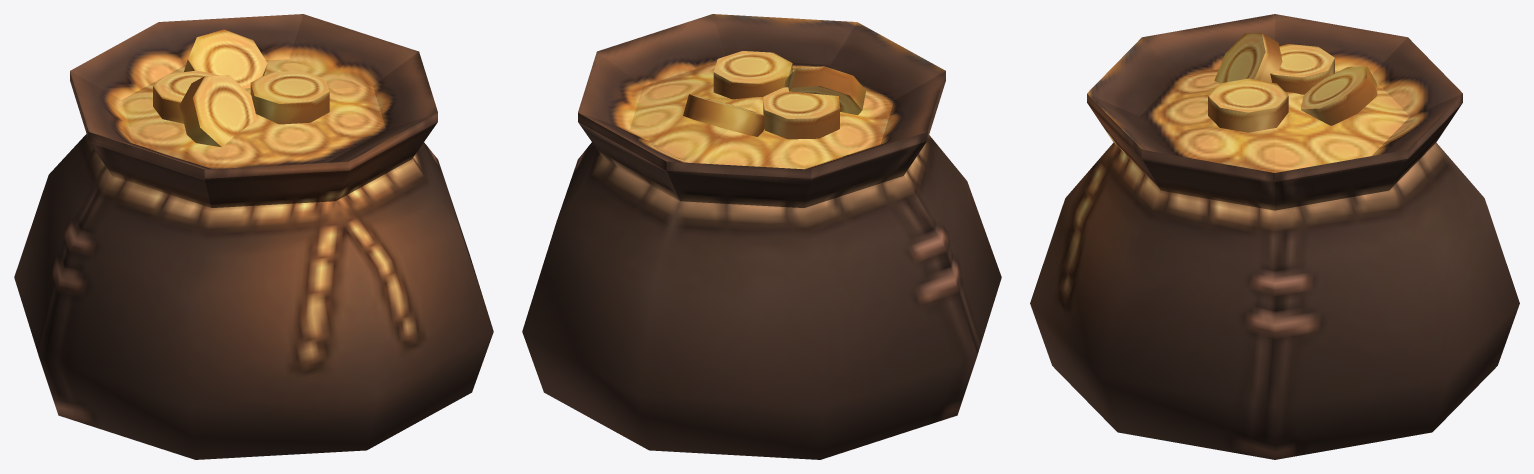
Rendered from gold coin bag1.FBX.
3 views of the same model, side by side, from view 1: azimuth 30°, elevation 25°; view 2: azimuth 150°, elevation 25°; view 3: azimuth 270°, elevation 25° (orthographic).
Visible parts, largest first — view 1: gold coin bag1; view 2: gold coin bag1; view 3: gold coin bag1.
Boxes of the visible parts, left/top/right/bottom form: gold coin bag1: left=14, top=14, right=493, bottom=459; gold coin bag1: left=522, top=14, right=1001, bottom=459; gold coin bag1: left=1030, top=14, right=1519, bottom=459.
Bounding box in the file's own units: 44.58 × 33.6 × 44.58.
